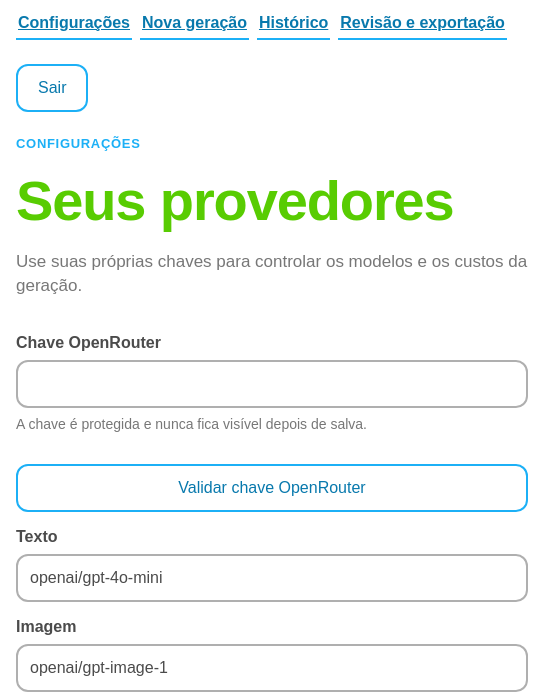
configuração de provedores › informa que a validação remota e o limite dependem do backend
This screenshot has width=545, height=696.
Type "sk-or-v1-example-secret" into the password field labelled "Chave OpenRouter" at (272, 384), box [16,360,528,408]
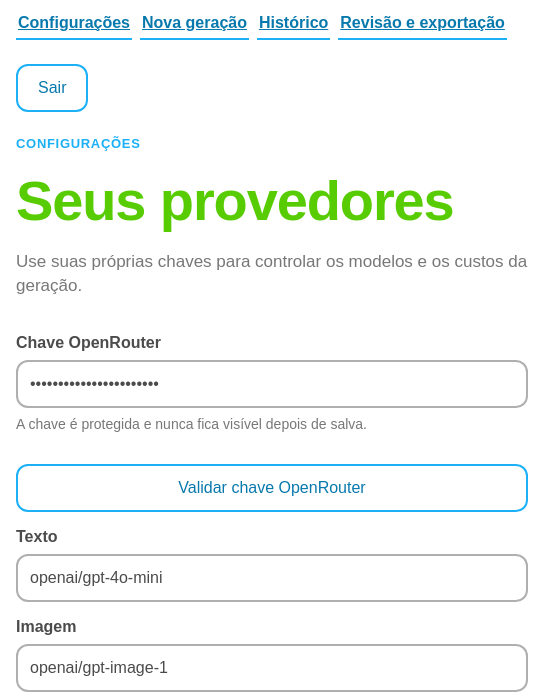
Click the button "Validar chave OpenRouter" at (272, 488), box [16,464,528,512]
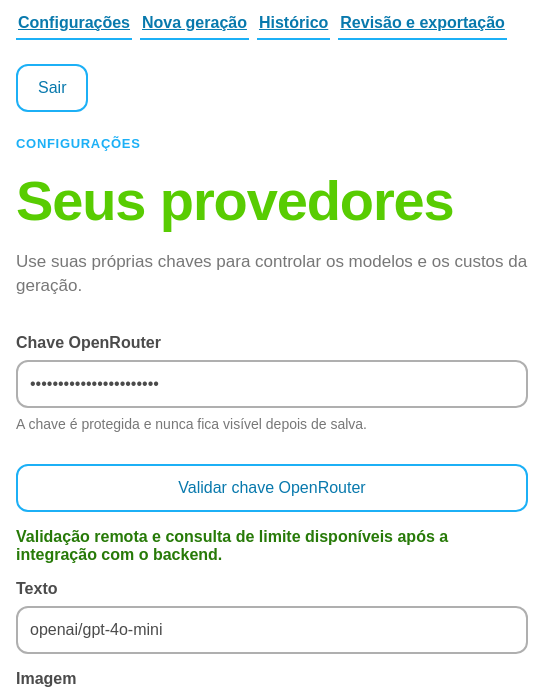
Result: the message shows "Validação remota e consulta de limite disponíveis após a integração com o backend." at [16,528,448,563]
